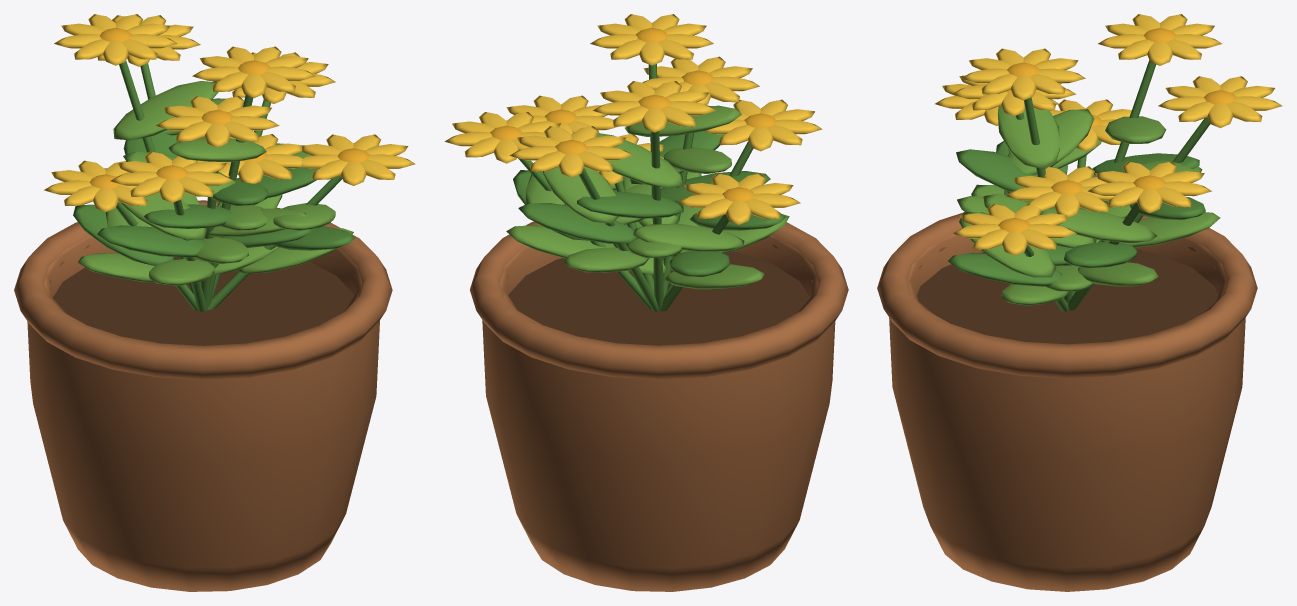
File: LV_CHAU_HOA_01.glb
The picture shows the model from 3 angles, left to right: view 1: azimuth 30°, elevation 25°; view 2: azimuth 150°, elevation 25°; view 3: azimuth 270°, elevation 25°; orthographic projection.
Parts seen in each view (by area): view 1: LV_CHAU_HOA_01-surface-a36a40, LV_CHAU_HOA_01-surface-f1c13a, LV_CHAU_HOA_01-surface-50351f, LV_CHAU_HOA_01-surface-6b9c41, LV_CHAU_HOA_01-surface-53873a, LV_CHAU_HOA_01-surface-e5a727; view 2: LV_CHAU_HOA_01-surface-a36a40, LV_CHAU_HOA_01-surface-f1c13a, LV_CHAU_HOA_01-surface-6b9c41, LV_CHAU_HOA_01-surface-50351f, LV_CHAU_HOA_01-surface-53873a, LV_CHAU_HOA_01-surface-e5a727; view 3: LV_CHAU_HOA_01-surface-a36a40, LV_CHAU_HOA_01-surface-f1c13a, LV_CHAU_HOA_01-surface-6b9c41, LV_CHAU_HOA_01-surface-50351f, LV_CHAU_HOA_01-surface-53873a, LV_CHAU_HOA_01-surface-e5a727.
Boxes of the visible parts, box(x1,y1,x2,y2) form: LV_CHAU_HOA_01-surface-a36a40: box(14, 200, 392, 591); LV_CHAU_HOA_01-surface-f1c13a: box(44, 14, 415, 212); LV_CHAU_HOA_01-surface-50351f: box(53, 257, 353, 345); LV_CHAU_HOA_01-surface-6b9c41: box(78, 81, 353, 285); LV_CHAU_HOA_01-surface-53873a: box(73, 61, 355, 311); LV_CHAU_HOA_01-surface-e5a727: box(90, 27, 369, 188); LV_CHAU_HOA_01-surface-a36a40: box(470, 221, 848, 591); LV_CHAU_HOA_01-surface-f1c13a: box(444, 14, 822, 224); LV_CHAU_HOA_01-surface-6b9c41: box(506, 105, 789, 289); LV_CHAU_HOA_01-surface-50351f: box(508, 251, 809, 345); LV_CHAU_HOA_01-surface-53873a: box(513, 64, 785, 311); LV_CHAU_HOA_01-surface-e5a727: box(490, 27, 776, 201); LV_CHAU_HOA_01-surface-a36a40: box(877, 212, 1257, 591); LV_CHAU_HOA_01-surface-f1c13a: box(935, 14, 1282, 255); LV_CHAU_HOA_01-surface-6b9c41: box(957, 106, 1220, 305); LV_CHAU_HOA_01-surface-50351f: box(917, 249, 1217, 344); LV_CHAU_HOA_01-surface-53873a: box(948, 60, 1210, 311); LV_CHAU_HOA_01-surface-e5a727: box(998, 28, 1236, 232).
Size of the model in its own units: 0.6483 by 0.8741 by 0.661.
